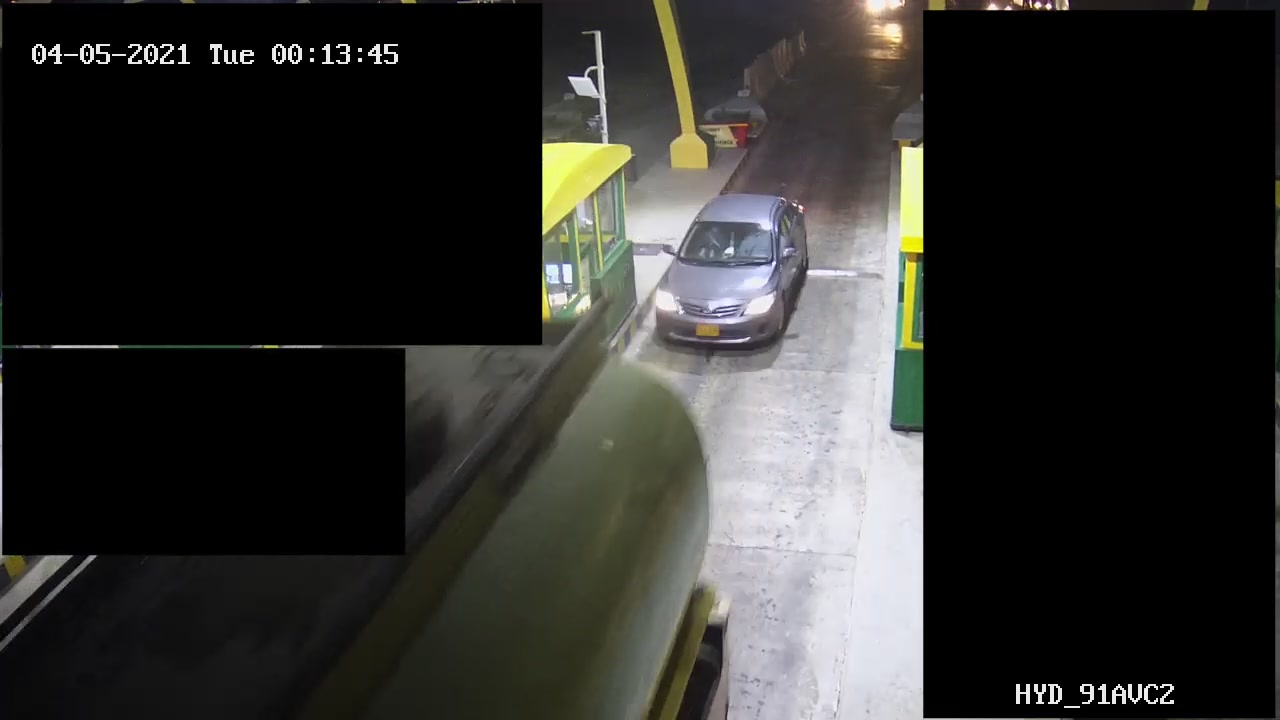F1: (645, 187, 816, 353)
